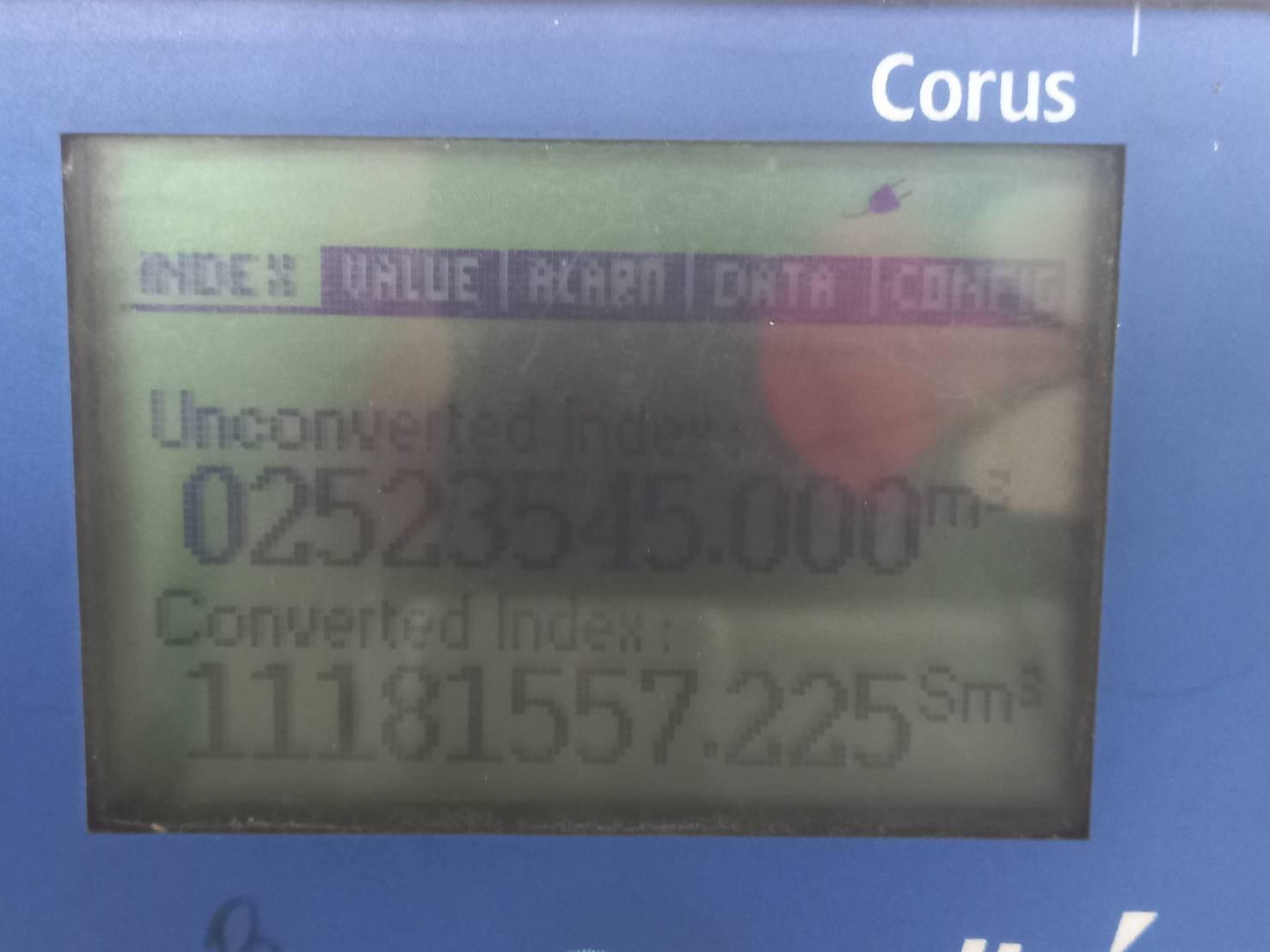digital_screen: (57, 134, 1129, 838)
